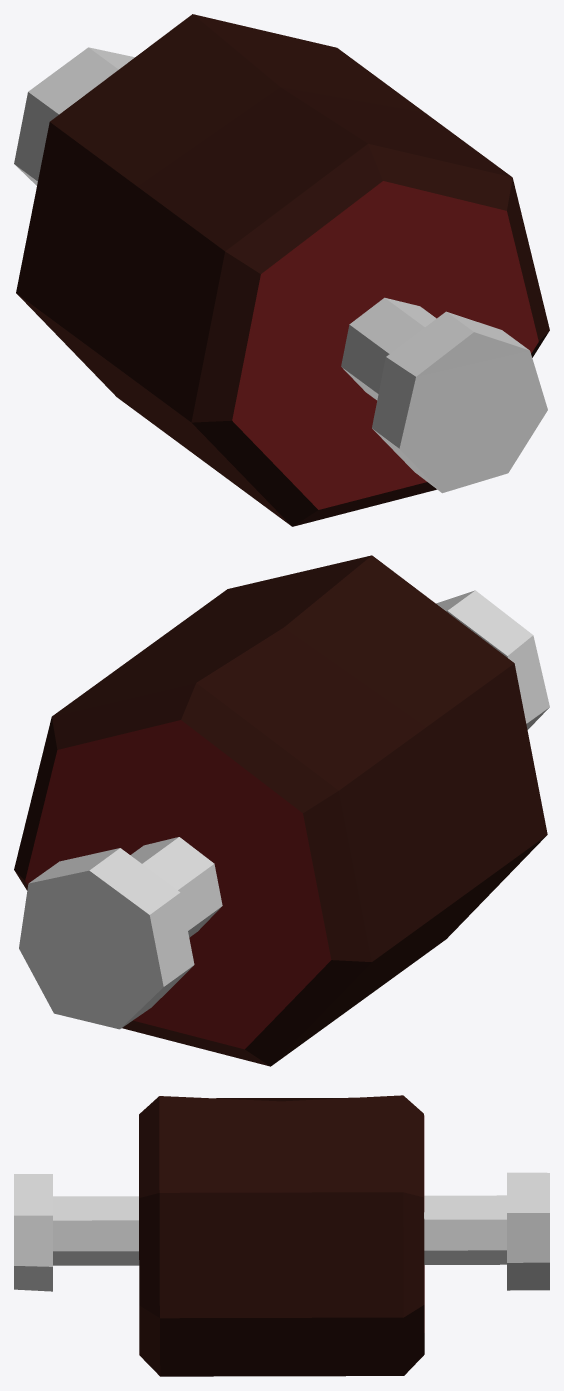
Rendered from Meat01.fbx.
3 views of the same model, one above another, from view 1: azimuth 30°, elevation 25°; view 2: azimuth 150°, elevation 25°; view 3: azimuth 270°, elevation 25° (orthographic). The views are drawn at different scales.
Parts seen in each view (by area): view 1: Cylinder005; view 2: Cylinder005; view 3: Cylinder005.
Part boxes in pixels (x1=…): Cylinder005: x1=14, y1=14, x2=549, y2=526; Cylinder005: x1=14, y1=555, x2=549, y2=1066; Cylinder005: x1=14, y1=1095, x2=549, y2=1376.
Size of the model in its own units: 23.58 by 23.02 by 43.97.
